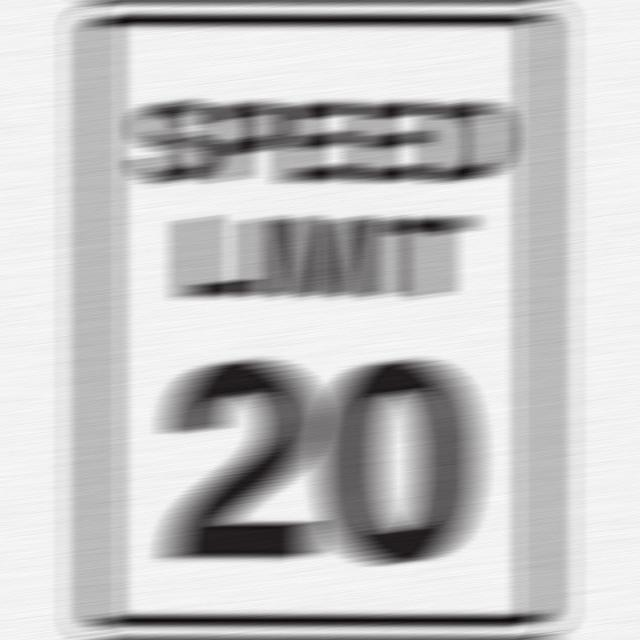speedLimit20: (72, 8, 572, 620)
